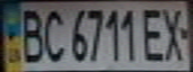1: (121, 5, 142, 62), (103, 5, 124, 62)
6: (66, 5, 87, 62)
7: (84, 5, 106, 62)
B: (15, 3, 45, 64)
C: (39, 4, 69, 63)
E: (139, 3, 169, 63)
X: (157, 3, 190, 62)
